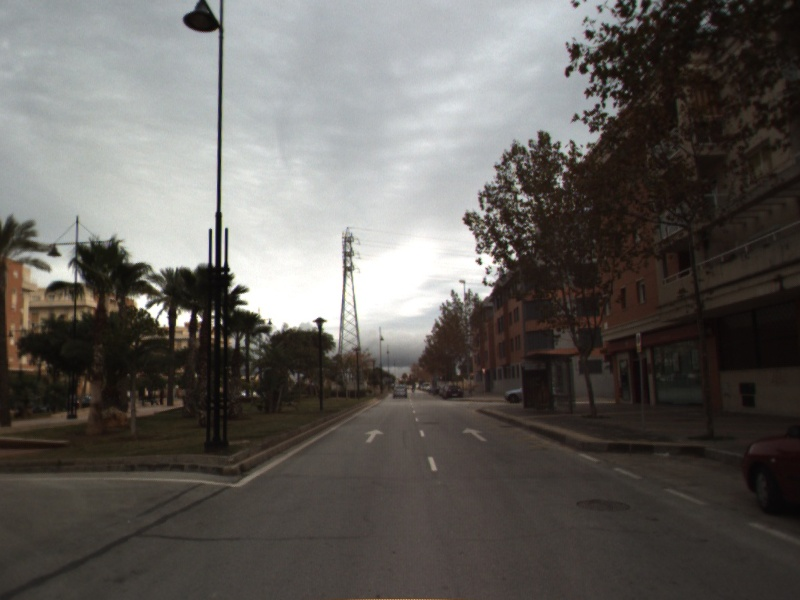STRAIGHT: (460, 425, 490, 443), (362, 426, 386, 444)
